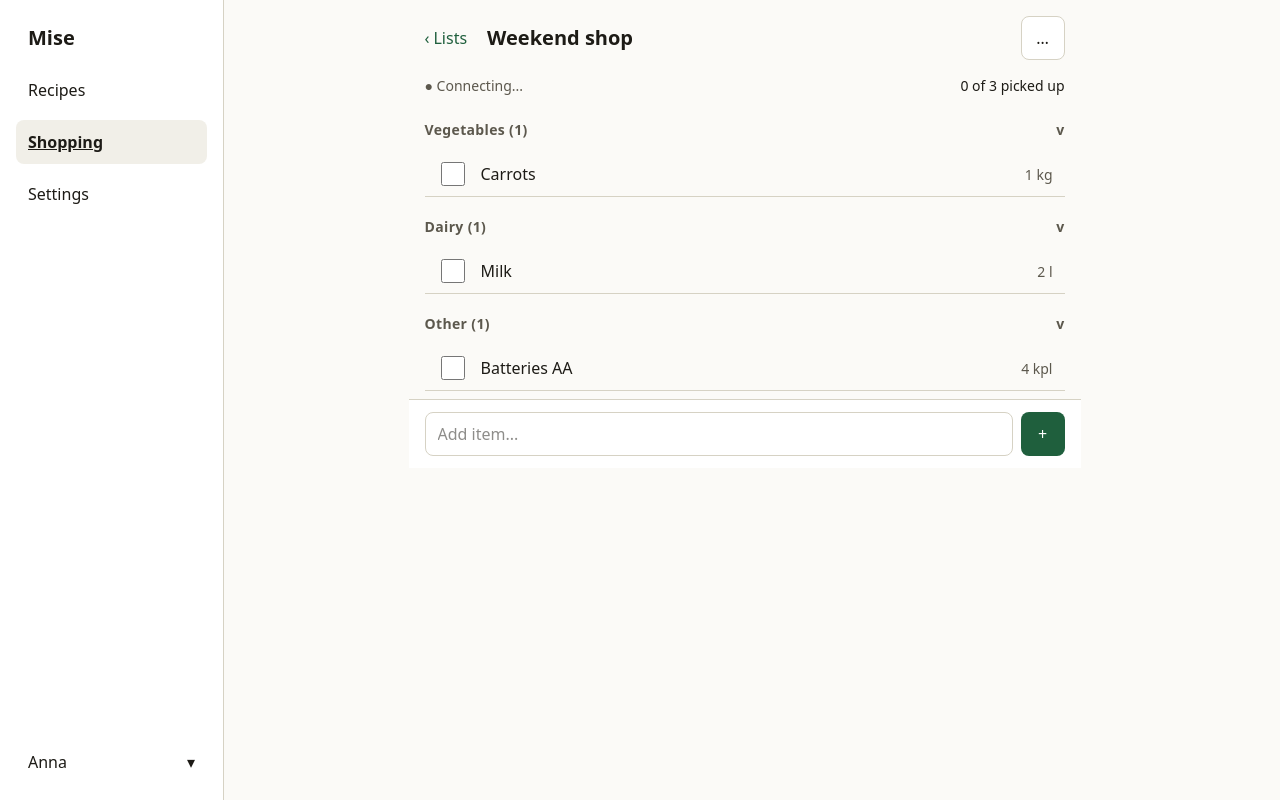
Test: adding an item (FR-35, FR-36, FR-39) › FR-35: a failed add keeps the placeholder with Not saved, Retry reuses the same key and Remove drops it
Expected: the text "Milk" is shown, [480,259,512,283]
Type "Maito" into the field with test id "add-item-input" at [718, 434], box [424,412,1012,456]
Then press Enter
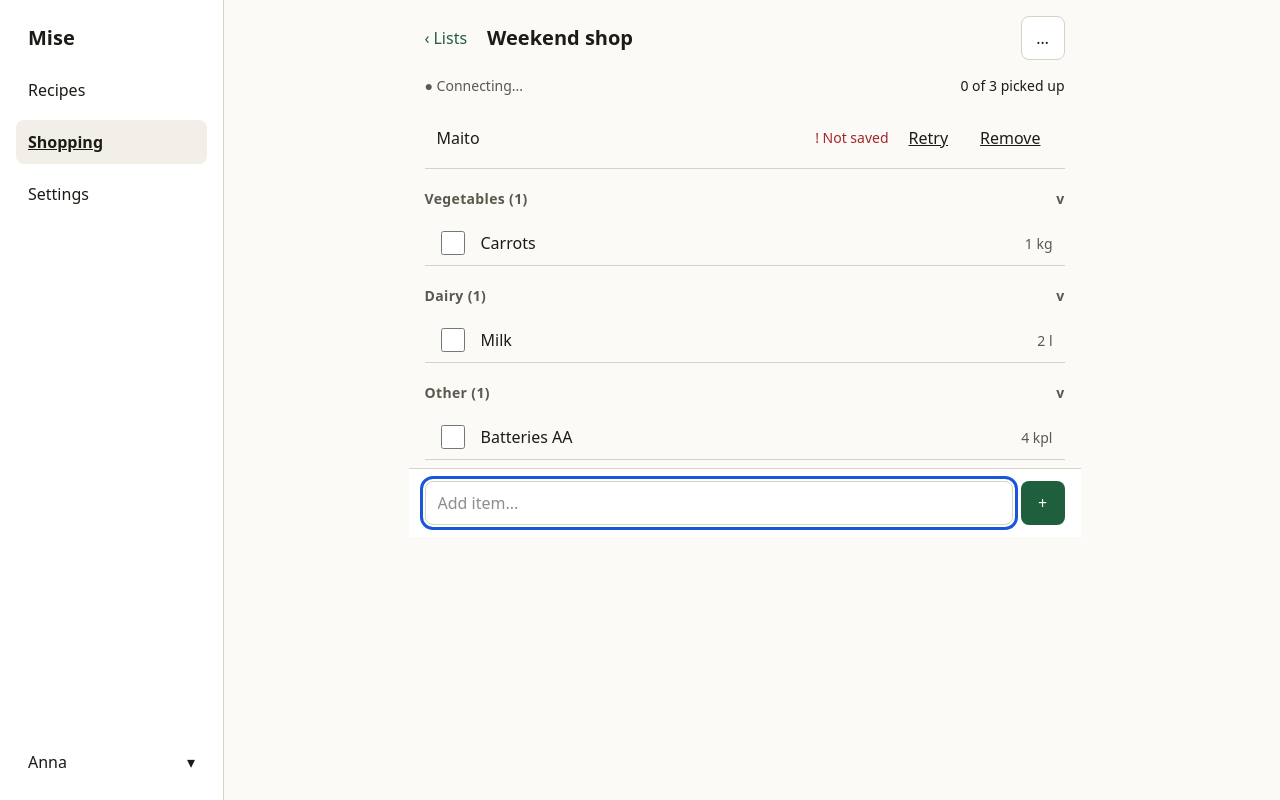
Result: the text "Not saved" is shown at [822,128,888,147]
Click the button with aria-label "Retry adding Maito" at [928, 138], box [896,116,960,160]
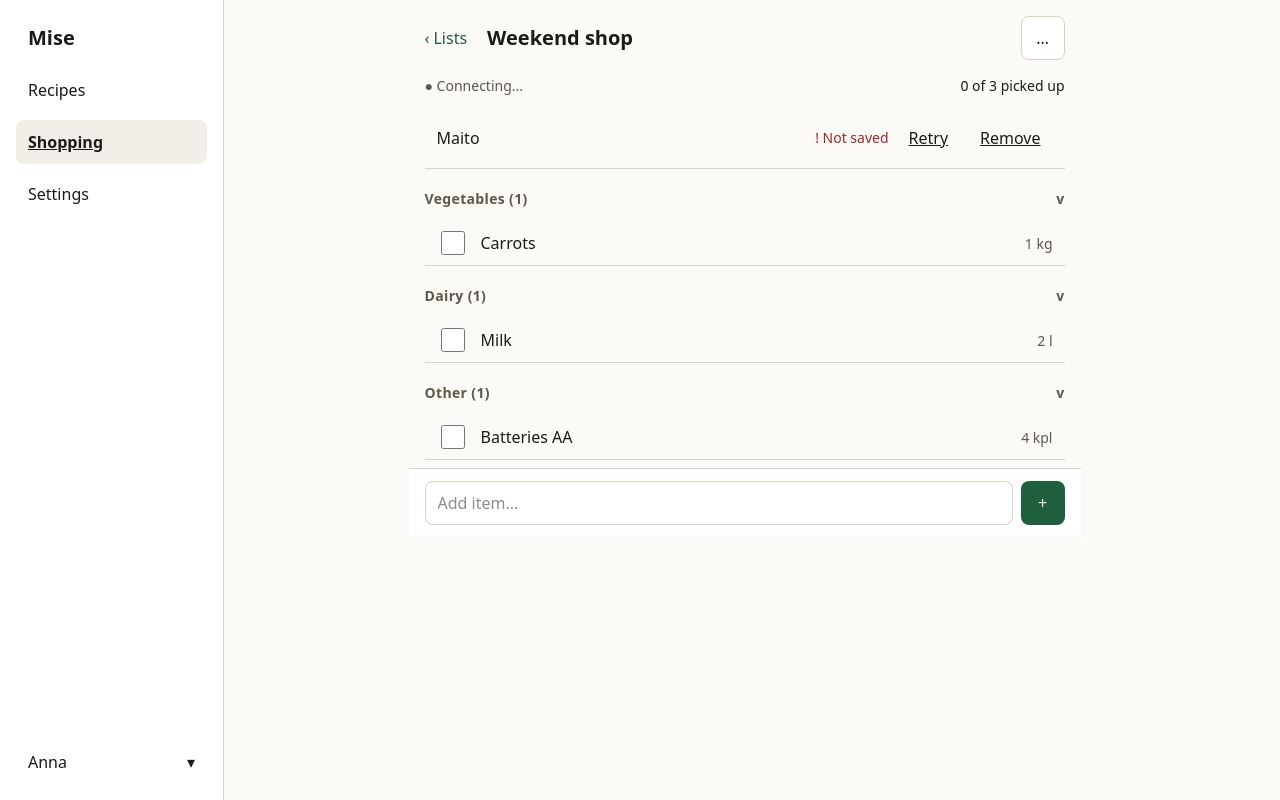
Result: the button with aria-label "Remove Maito" is shown at [968,116,1052,160]
Click the button with aria-label "Retry adding Maito" at [928, 138], box [896,116,960,160]
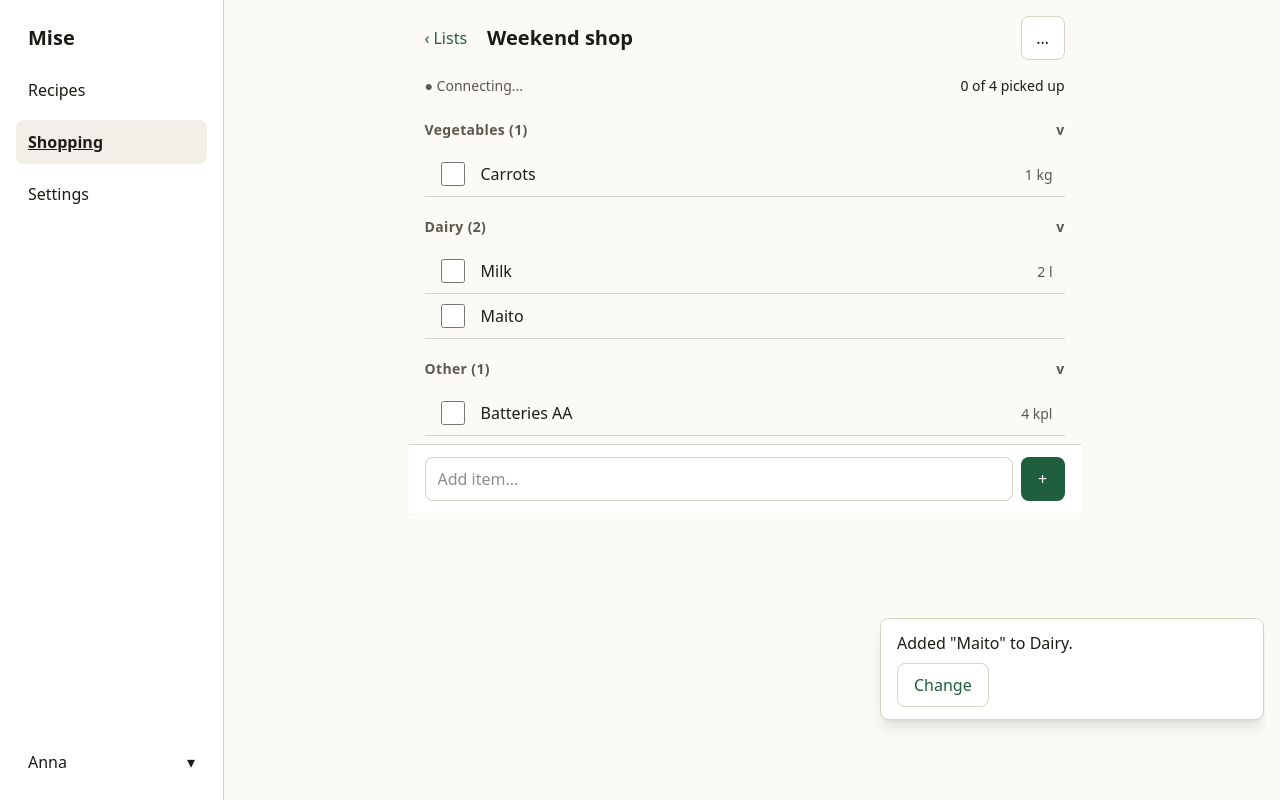
Result: the text "Added \"Maito\" to Dairy." is shown at [897,632,1073,654]
Result: the list item with test id "pending-item" is gone
